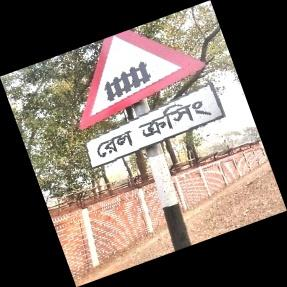Rail-crossing: (77, 28, 226, 173)
